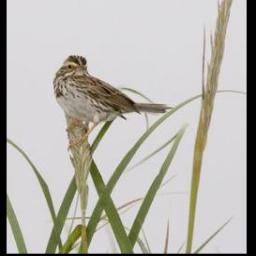Sparrow: (53, 53, 177, 151)
